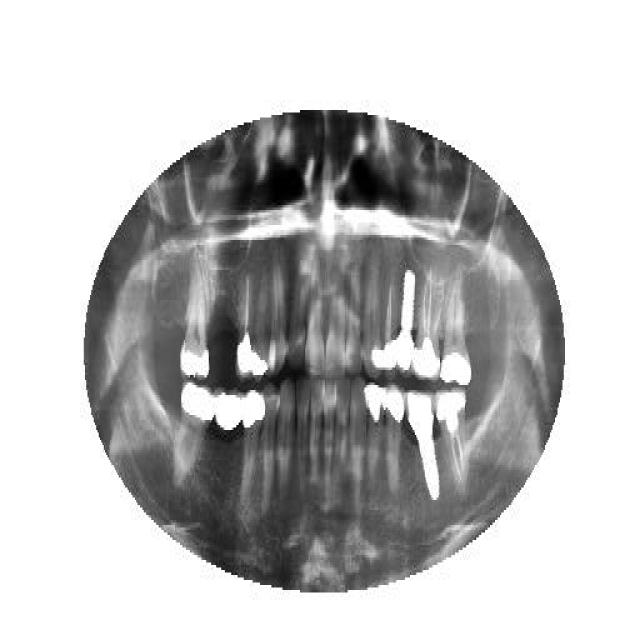Fillings: (168, 385, 214, 490), (439, 270, 471, 385), (180, 272, 211, 380), (238, 387, 264, 515), (361, 252, 381, 378), (384, 380, 405, 495), (364, 380, 385, 490), (252, 270, 268, 378), (212, 385, 242, 437)
Implant: (404, 387, 441, 505), (432, 388, 468, 488), (412, 262, 442, 382), (395, 265, 417, 373), (234, 270, 252, 380), (381, 272, 395, 378)
